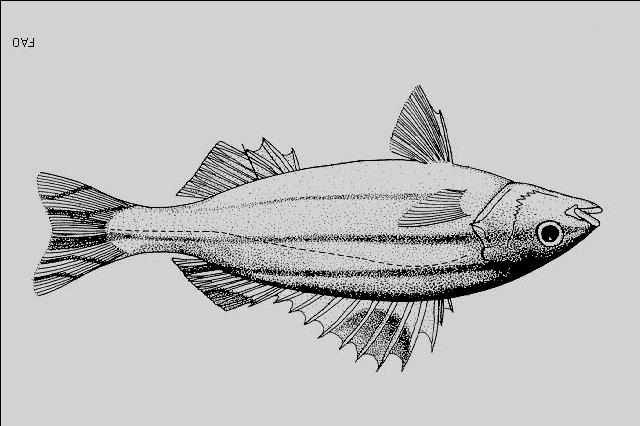Mulut: (571, 188, 613, 241)
Sirip Anal: (173, 134, 301, 206)
Sirip Dada: (384, 185, 478, 227)
Sirip Ekor: (27, 165, 127, 299)
Sirip Perut: (386, 80, 458, 167)
Sirip Punggung: (168, 250, 464, 380)
